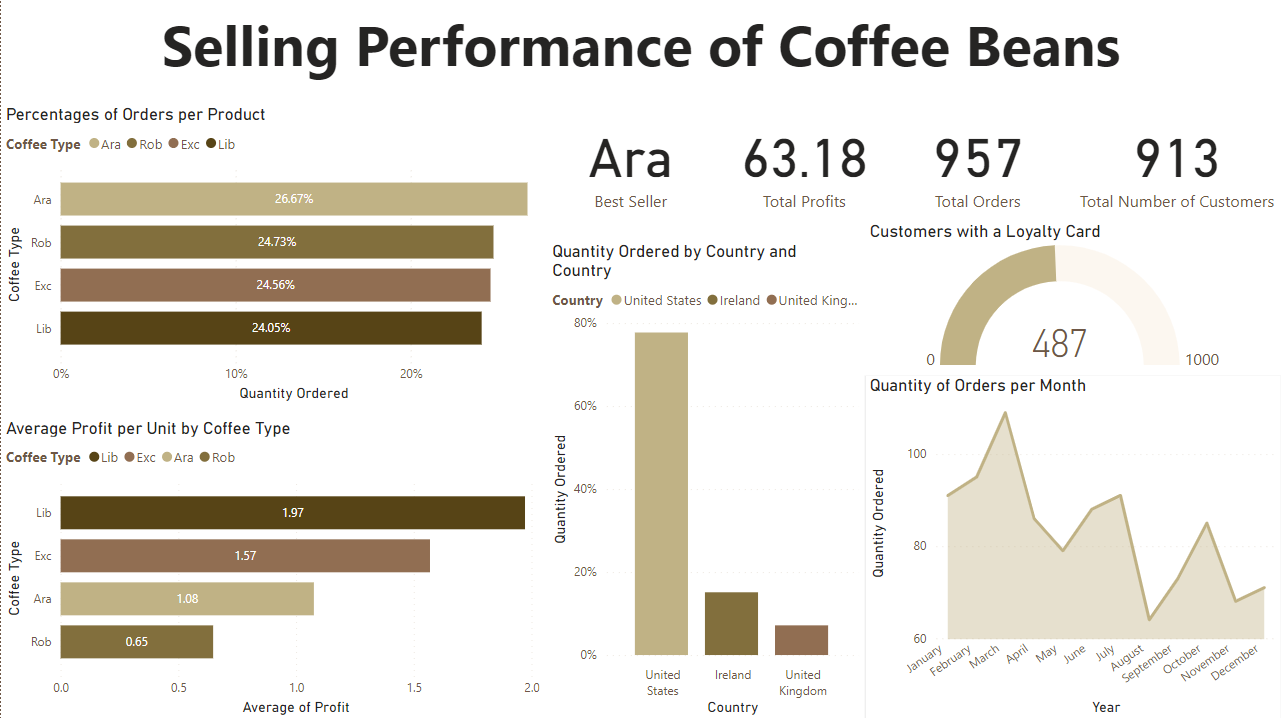

This screenshot's page, from the dashboard's own definition file:
{"tool":"powerbi","page":{"name":"Page 1","canvas":[1280,720],"ordinal":0},"visuals":[{"type":"card","fields":{"Values":["Count(orders.Customer ID)"]},"box":[1072.6,103.7,207.4,117],"z":0},{"type":"columnChart","fields":{"Category":["customers.Country"],"Y":["Sum(orders.Quantity)"],"Series":["customers.Country"]},"box":[546.7,241.5,317,478.5],"z":1000},{"type":"areaChart","title":"Quantity of Orders per Month","fields":{"Category":["orders.Order Date.Variation.Date Hierarchy.Month"],"Y":["CountNonNull(orders.Order ID)"]},"box":[863.7,374.8,416.3,345.2],"z":2000},{"type":"gauge","title":"Customers with a Loyalty Card","fields":{"Y":["CountNonNull(customers.Number of Loyalty Cards)"],"MaxValue":["CountNonNull(customers.Customer ID)"]},"box":[863.7,220.7,416.3,154.1],"z":3000},{"type":"barChart","title":"Percentages of Orders per Product","fields":{"Category":["products.Coffee Type"],"Series":["products.Coffee Type"],"Y":["Sum(orders.Quantity)"]},"box":[0,103.7,543.7,302.2],"z":4000},{"type":"barChart","title":"Average Profit per Unit by Coffee Type","fields":{"Category":["products.Coffee Type"],"Y":["Avg(products.Profit)"],"Series":["products.Coffee Type"]},"box":[0,417.8,543.7,302.2],"z":5000},{"type":"card","fields":{"Values":["Count(orders.Order ID)"]},"box":[905.2,103.7,143.7,117],"z":6000},{"type":"textbox","box":[0,0,1280,103.7],"z":7000},{"type":"card","fields":{"Values":["Sum(products.Profit)"]},"box":[728.9,103.7,149.6,117],"z":8000},{"type":"card","fields":{"Values":["Aggregated Quantities.Max Coffee Type"]},"box":[555.6,103.7,149.6,117],"z":9000},{"type":"actionButton","box":[0,0,100,40],"z":10000}]}

Visuals, with their boxes in screenshot pixels (x1, y1, x2, y2), scaled from the page's 1280x720 canvas onto the 1281x718 screenshot:
card - Count(orders.Customer ID): 1073:103:1280:220
columnChart - customers.Country x Sum(orders.Quantity): 547:241:864:717
"Quantity of Orders per Month" areaChart: 864:374:1280:717
"Customers with a Loyalty Card" gauge: 864:220:1280:374
"Percentages of Orders per Product" barChart: 0:103:544:405
"Average Profit per Unit by Coffee Type" barChart: 0:417:544:717
card - Count(orders.Order ID): 906:103:1050:220
textbox: 0:0:1280:103
card - Sum(products.Profit): 729:103:879:220
card - Aggregated Quantities.Max Coffee Type: 556:103:706:220
actionButton: 0:0:100:40
